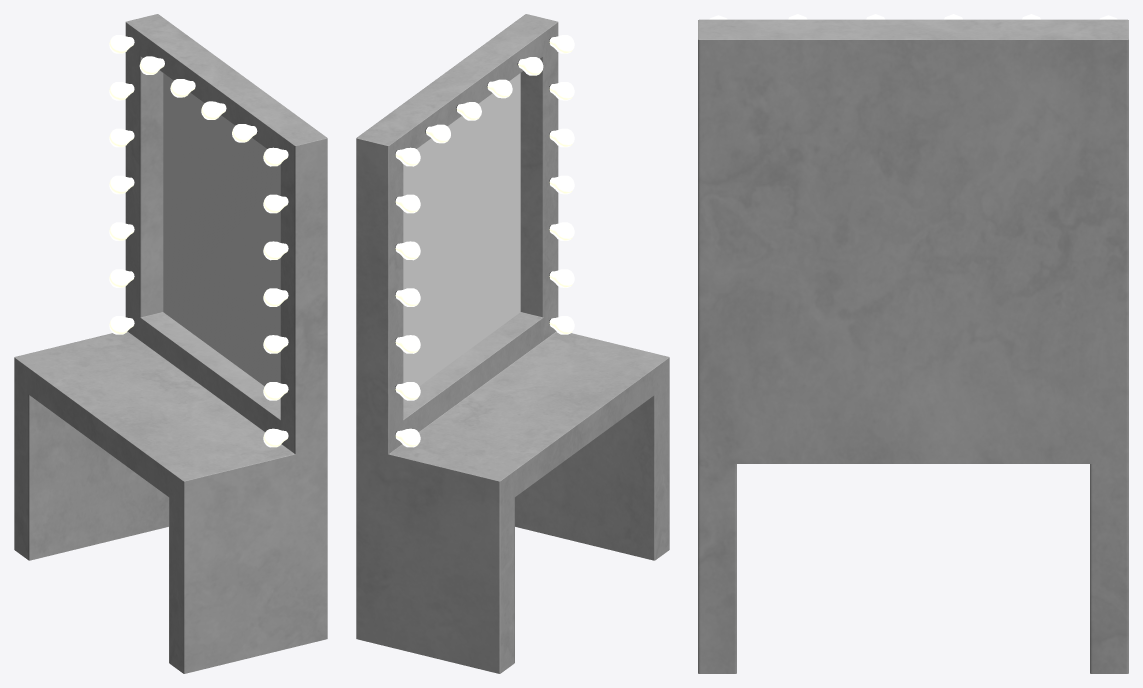
File: makeup_dresser_white.glb
The picture shows the model from 3 angles, left to right: view 1: azimuth 30°, elevation 25°; view 2: azimuth 150°, elevation 25°; view 3: azimuth 270°, elevation 25°; orthographic projection. The views are drawn at different scales.
Visible parts, largest first — view 1: mesa, focos nuevos 2, focos nuevos; view 2: mesa, focos nuevos 2, focos nuevos; view 3: mesa.
Part boxes in pixels (<box>): mesa: <box>14,14,327,673</box>; focos nuevos 2: <box>109,35,288,447</box>; focos nuevos: <box>139,56,257,142</box>; mesa: <box>356,14,669,673</box>; focos nuevos 2: <box>395,35,574,447</box>; focos nuevos: <box>425,57,543,143</box>; mesa: <box>698,19,1128,673</box>.
Bounding box in the file's own units: 0.5745 × 1.91 × 1.17.
Materials: 4 (1 with a texture image).
